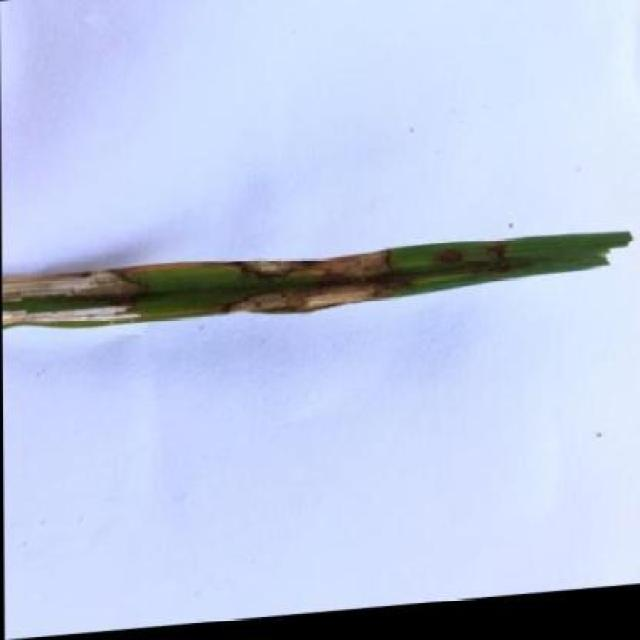Brown_Spot: (1, 220, 640, 348)
